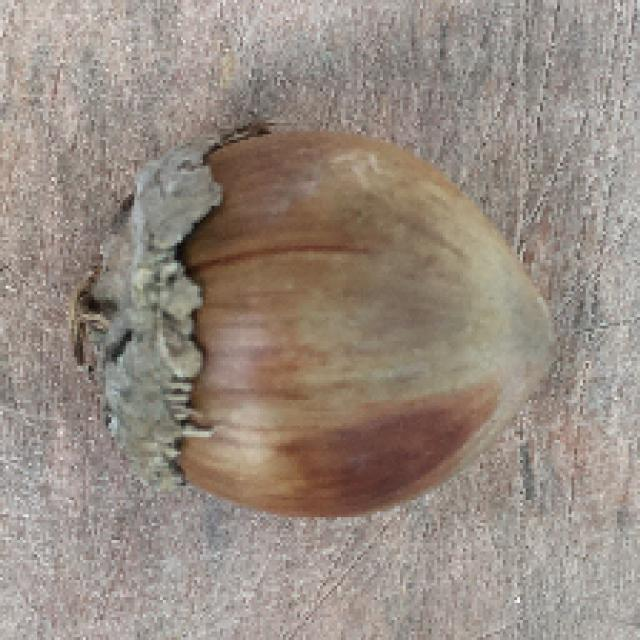DamagedHazelnut: (77, 131, 562, 519)
